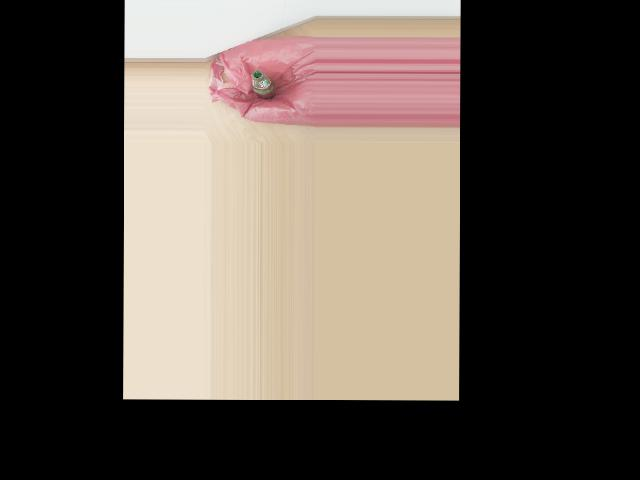beer: (251, 70, 275, 100)
